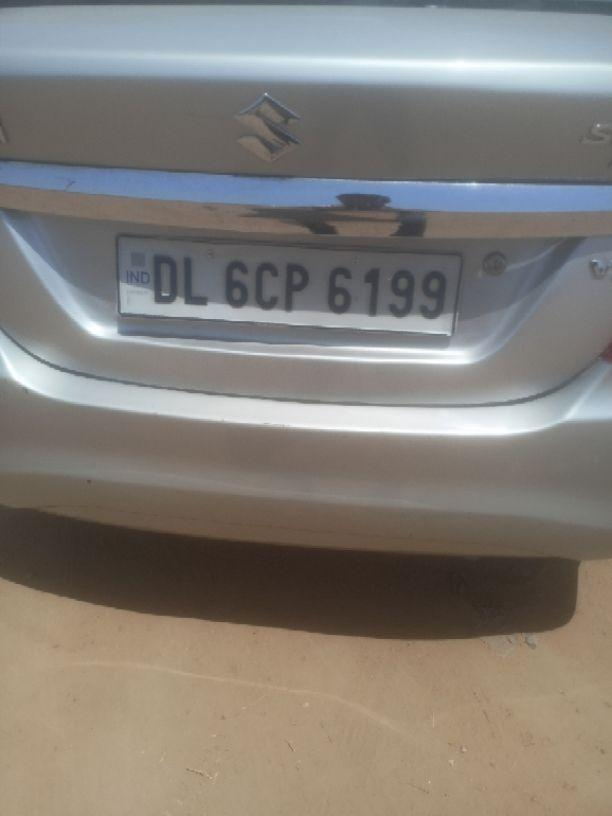license_plate: (114, 232, 463, 338)
